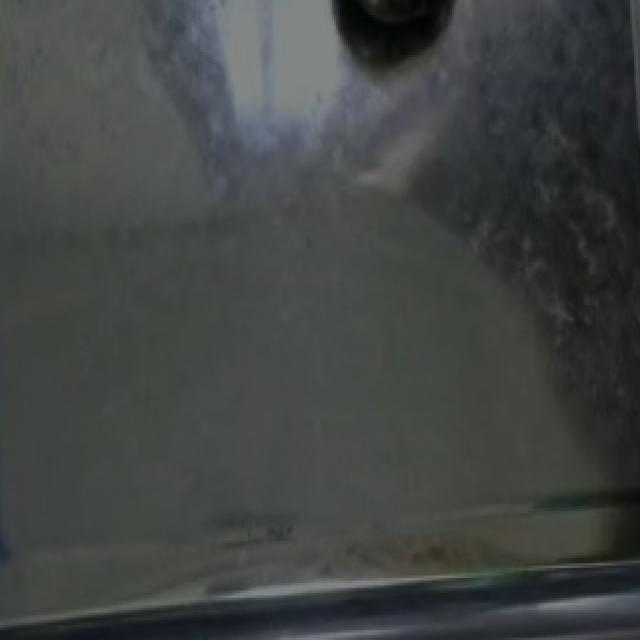Fruit: (330, 0, 450, 32)
